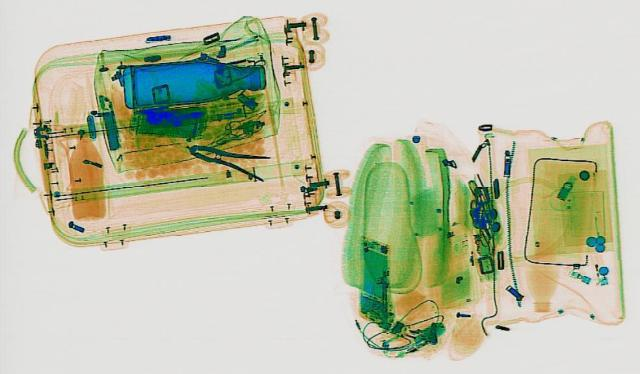Pliers: (178, 135, 284, 181)
